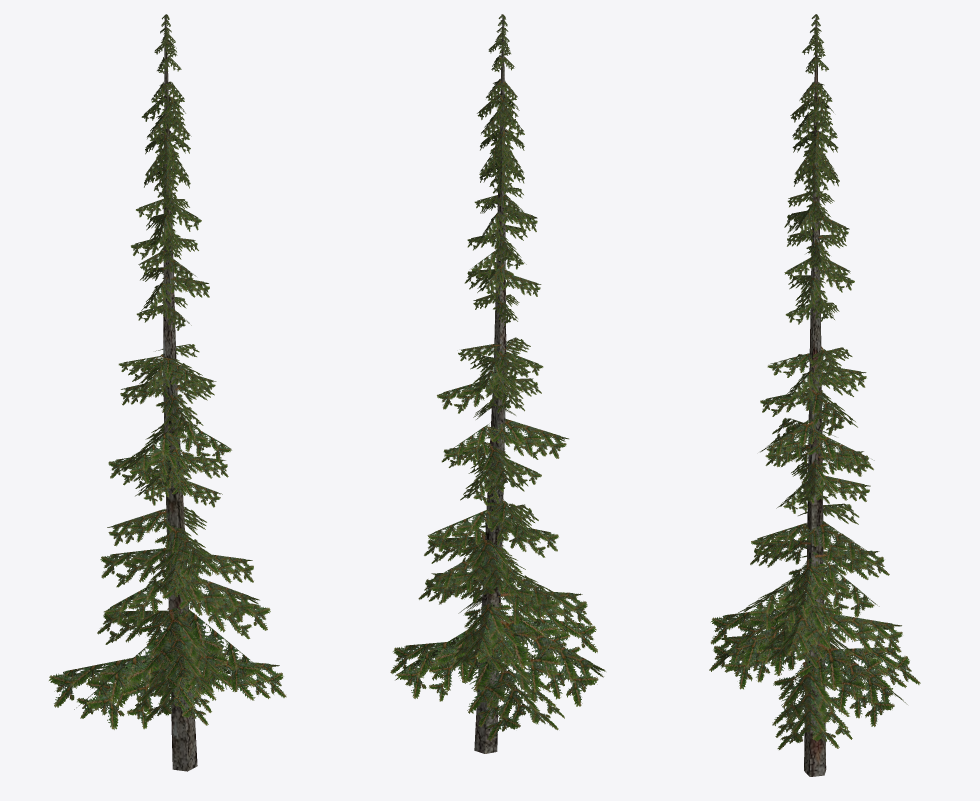
Rendered from fir_v3.glb.
The picture shows the model from 3 angles, left to right: view 1: azimuth 30°, elevation 25°; view 2: azimuth 150°, elevation 25°; view 3: azimuth 270°, elevation 25°; orthographic projection. The views are drawn at different scales.
Parts seen in each view (by area): view 1: fir_tree; view 2: fir_tree; view 3: fir_tree.
Boxes of the visible parts, <box> form: fir_tree: <box>49,14,286,771</box>; fir_tree: <box>390,14,605,753</box>; fir_tree: <box>709,14,920,776</box>.
Bounding box in the file's own units: 6.58 × 18.12 × 6.47.
1 material, 1 textured.
